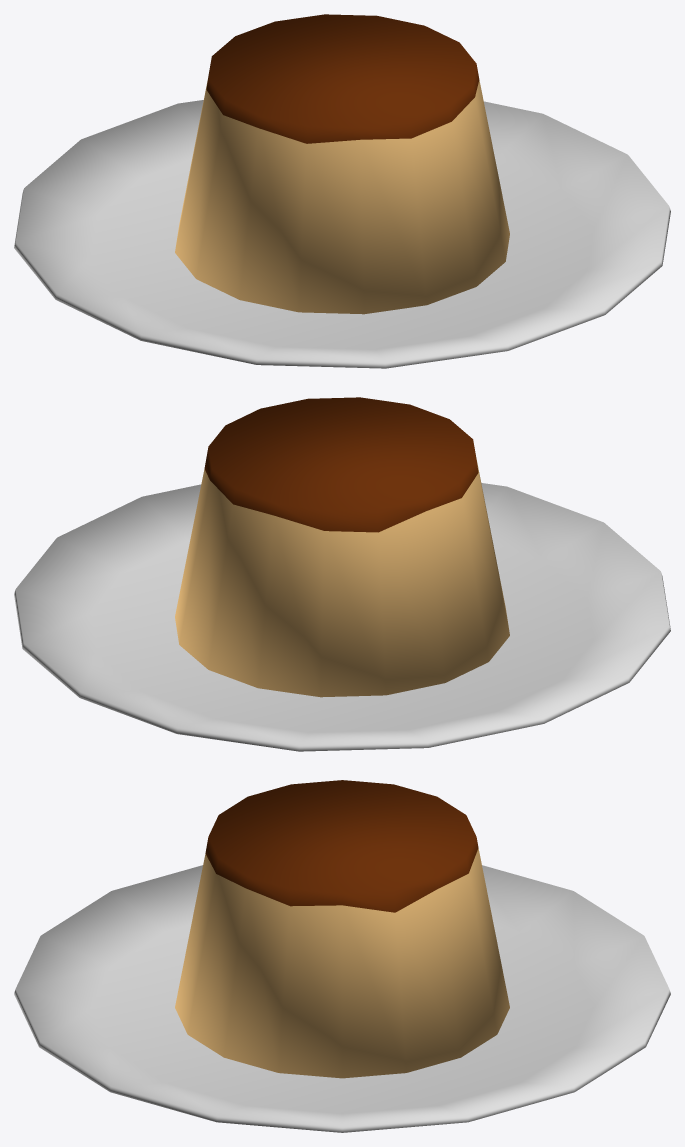
Rendered from custard-pudding.glb.
3 renders of one model, top to bottom at view 1: azimuth 30°, elevation 25°; view 2: azimuth 150°, elevation 25°; view 3: azimuth 270°, elevation 25°, orthographic.
Visible parts, largest first — view 1: Cylinder, Circle; view 2: Cylinder, Circle; view 3: Cylinder, Circle.
Part boxes in pixels (bbox=[...]): Cylinder: bbox=[175, 14, 509, 314]; Circle: bbox=[14, 100, 670, 368]; Cylinder: bbox=[175, 397, 509, 697]; Circle: bbox=[14, 483, 670, 751]; Cylinder: bbox=[175, 780, 509, 1078]; Circle: bbox=[14, 865, 670, 1132].
Size of the model in its own units: 0.1568 by 0.05 by 0.1568.
